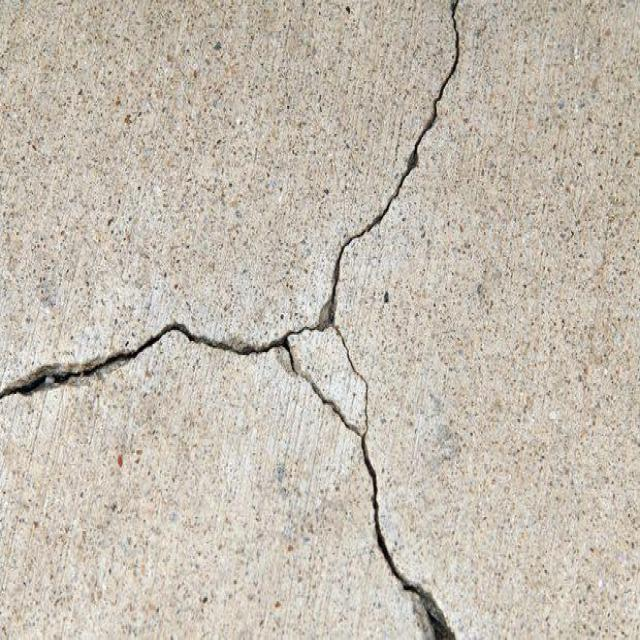multi-branched crack: (0, 0, 459, 638)
